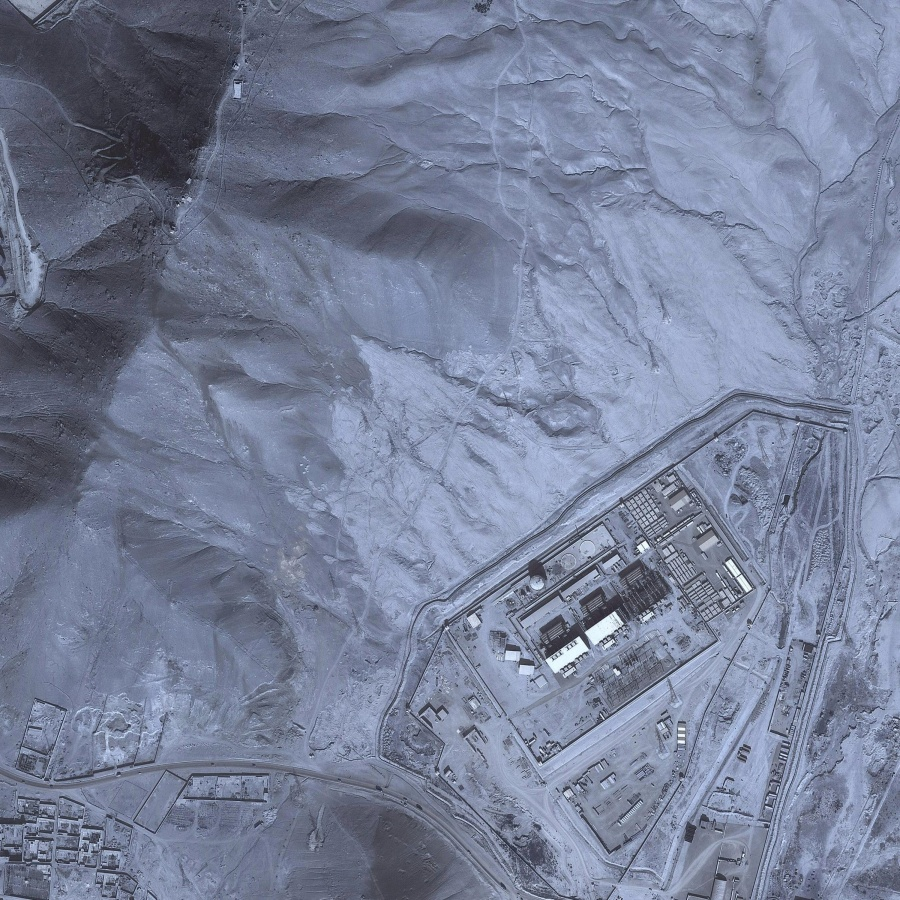PowerPlant: (502, 493, 752, 677)
